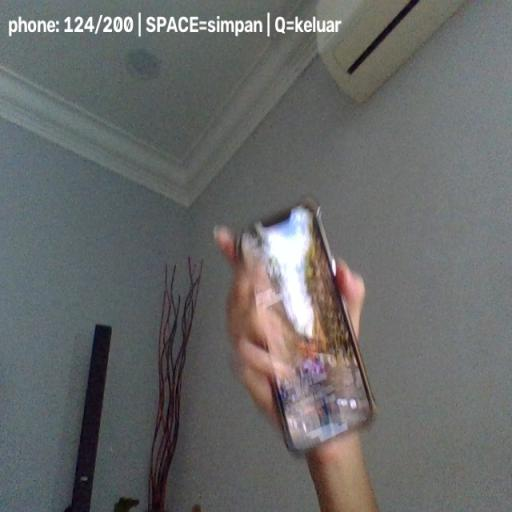Phone: (236, 198, 378, 456)
